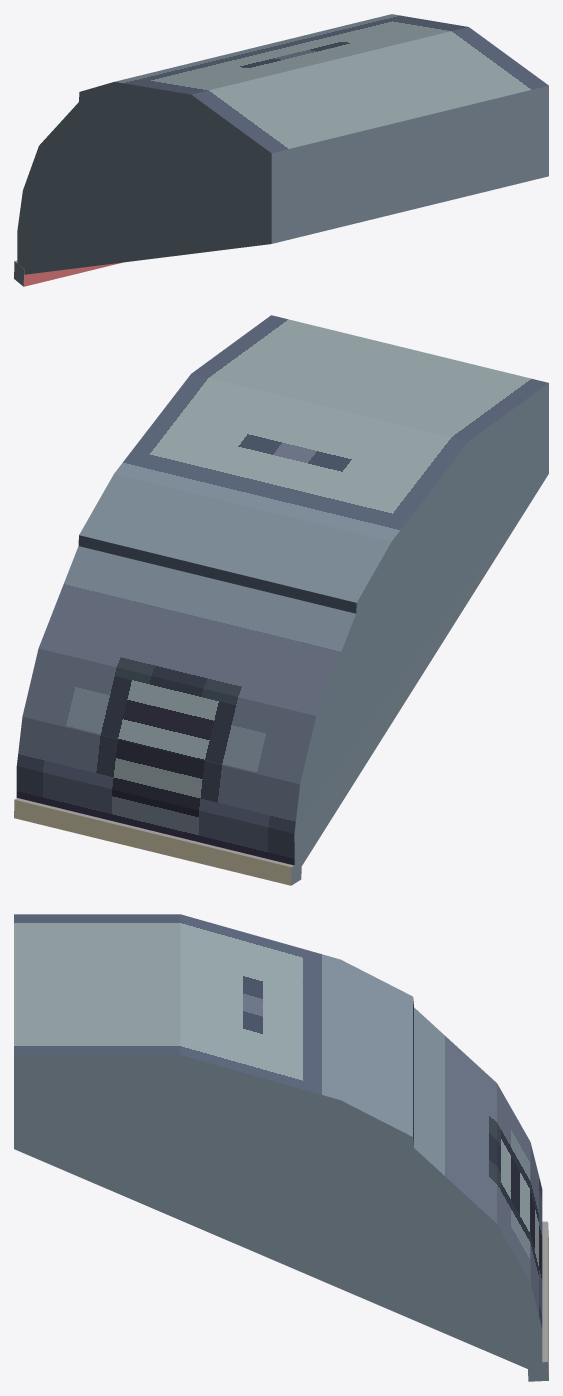
The model's file is df11_carport_equip_blinds.obj.
3 renders of one model, top to bottom at view 1: azimuth 30°, elevation 25°; view 2: azimuth 150°, elevation 25°; view 3: azimuth 270°, elevation 25°, orthographic. The views are drawn at different scales.
Visible parts, largest first — view 1: cube; view 2: cube; view 3: cube.
Boxes of the visible parts, x1,y1,x2,y2 form: cube: (14, 14, 548, 286); cube: (14, 315, 548, 885); cube: (14, 914, 548, 1381).
Bounding box in the file's own units: 1 × 1.08 × 1.61.
